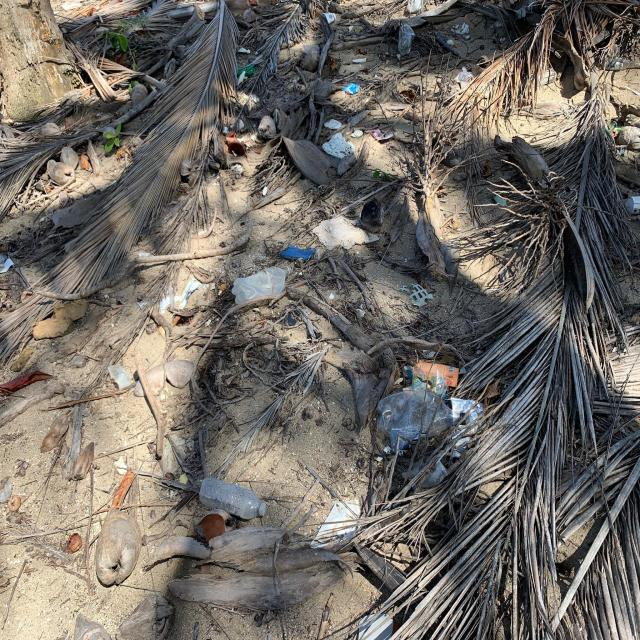litter: (203, 269, 282, 508)
